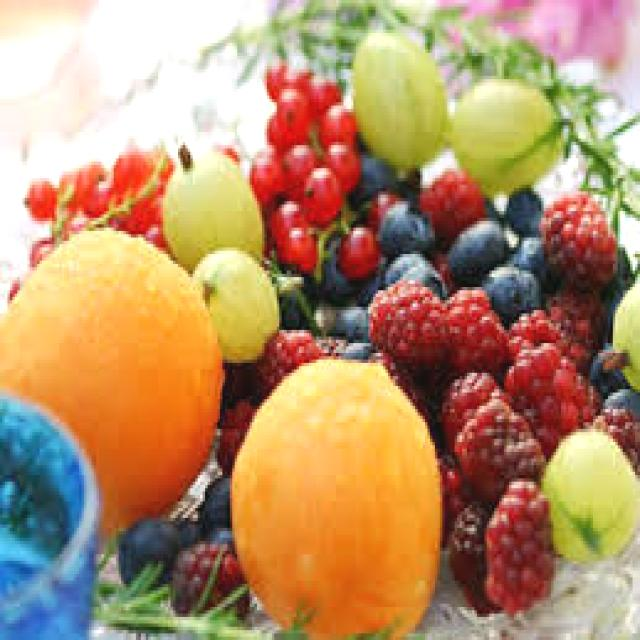wet: (367, 220, 628, 518), (255, 350, 452, 635), (5, 241, 223, 493), (149, 132, 268, 257), (464, 74, 584, 194), (354, 33, 440, 167)
